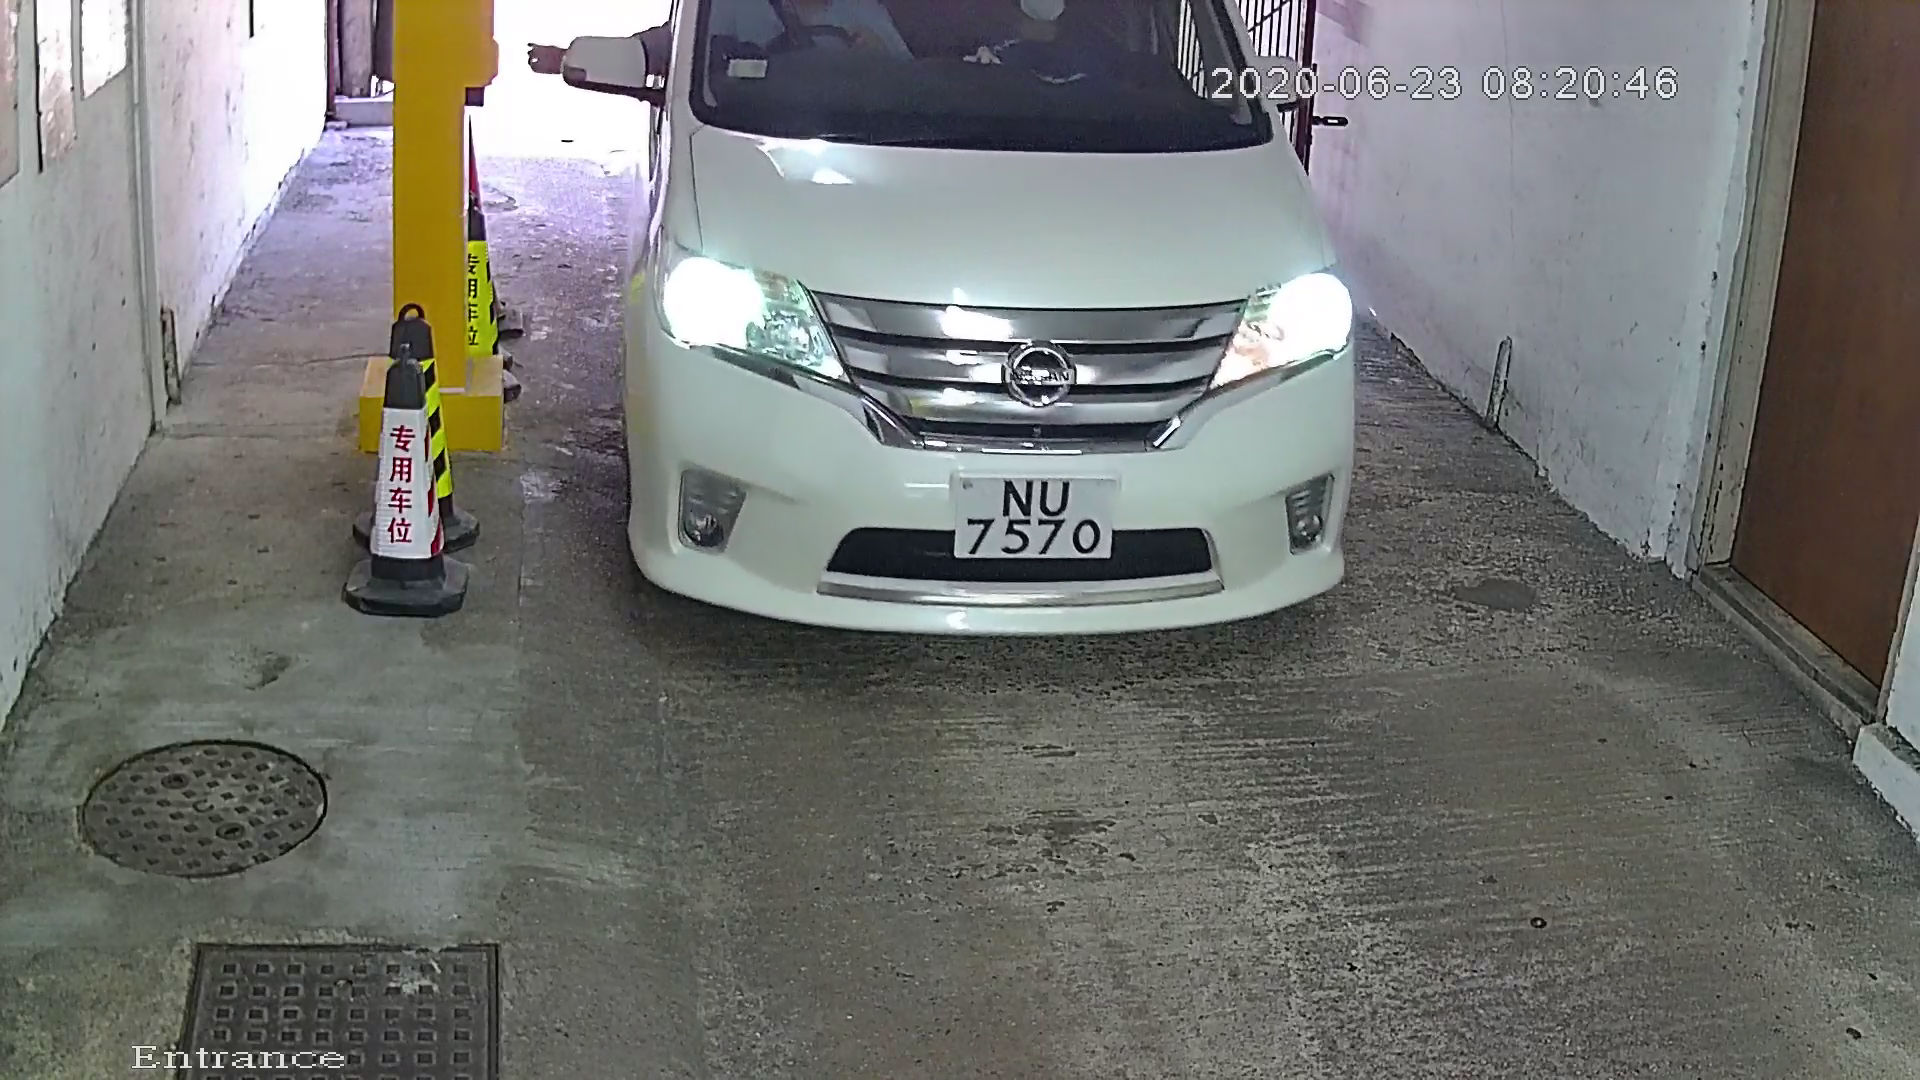privatecar: (526, 1, 1381, 688)
